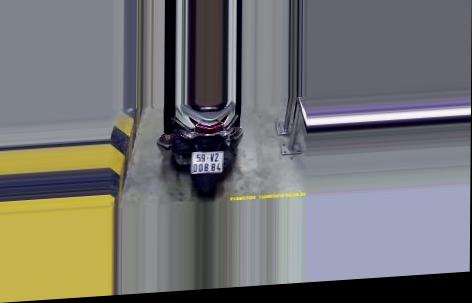License_Plate: (189, 145, 228, 177)
